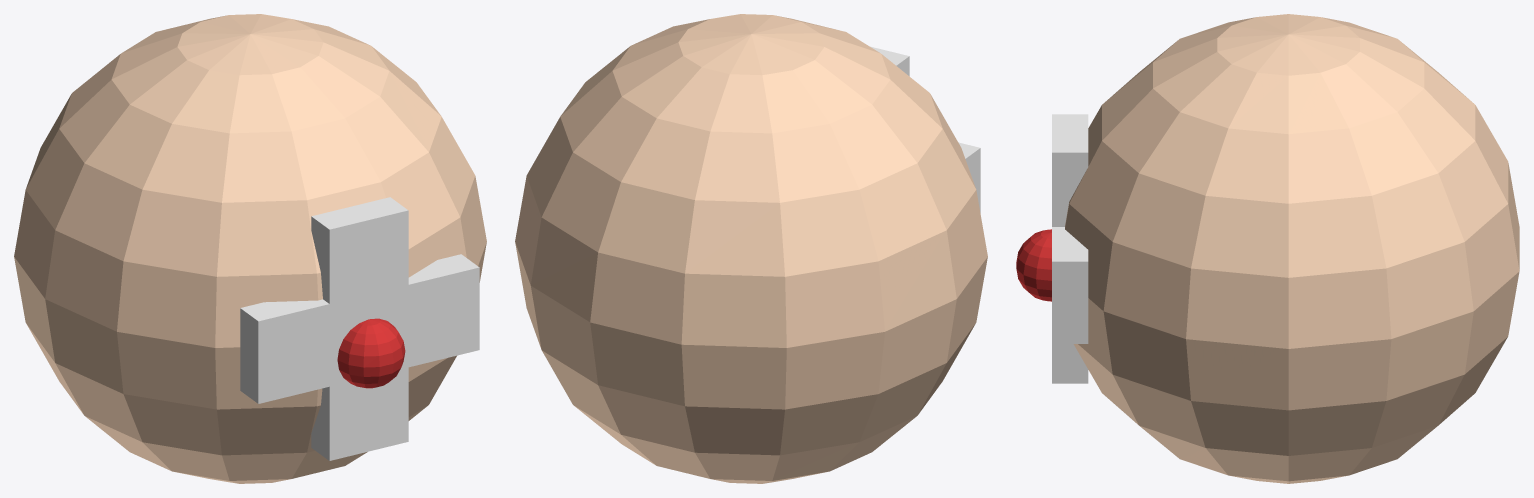
File: Item_TummyHurts.obj
3 renders of one model, left to right at view 1: azimuth 30°, elevation 25°; view 2: azimuth 150°, elevation 25°; view 3: azimuth 270°, elevation 25°, orthographic.
Visible parts, largest first — view 1: Item_TummyHurts; view 2: Item_TummyHurts; view 3: Item_TummyHurts.
Part boxes in pixels (x1,y1,x2,y2): Item_TummyHurts: [14, 14, 486, 483]; Item_TummyHurts: [515, 14, 987, 483]; Item_TummyHurts: [1016, 14, 1519, 483].
Size of the model in its own units: 0.52 by 0.52 by 0.5525.
